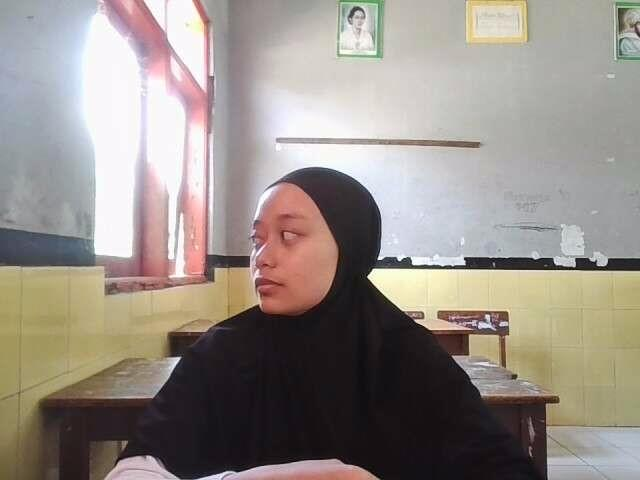cheating: (84, 158, 562, 480)
